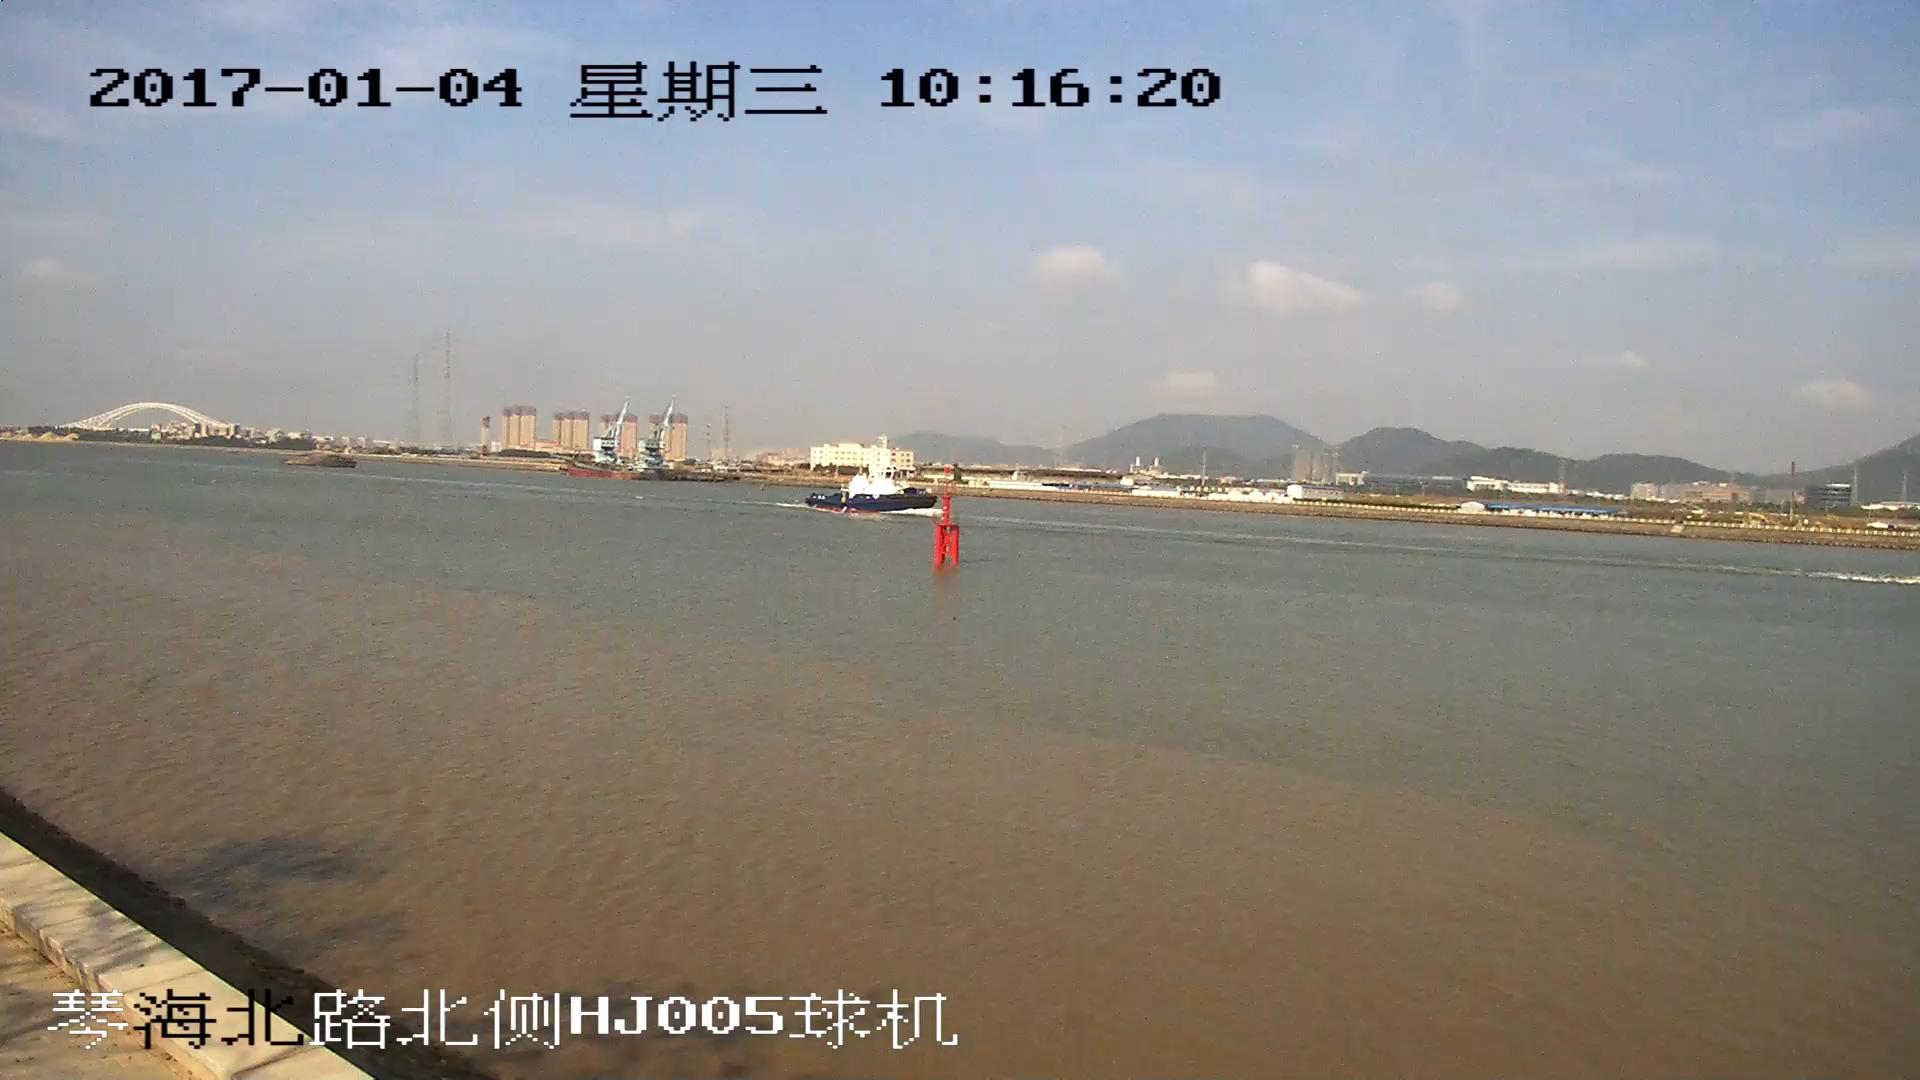passenger ship: (819, 444, 936, 518)
